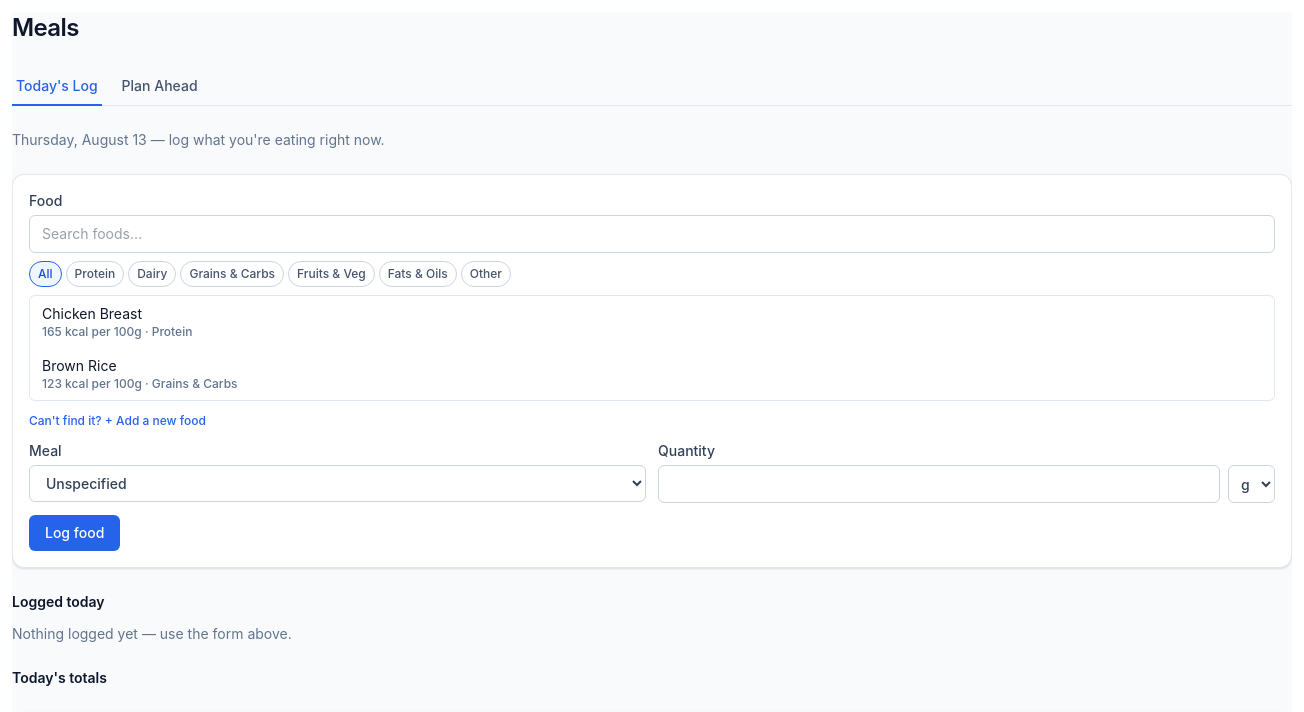
Test: MealPlannerView › selects a plan and shows its entries and daily totals
Click the button "Plan Ahead" at (160, 87), box [118, 68, 202, 106]
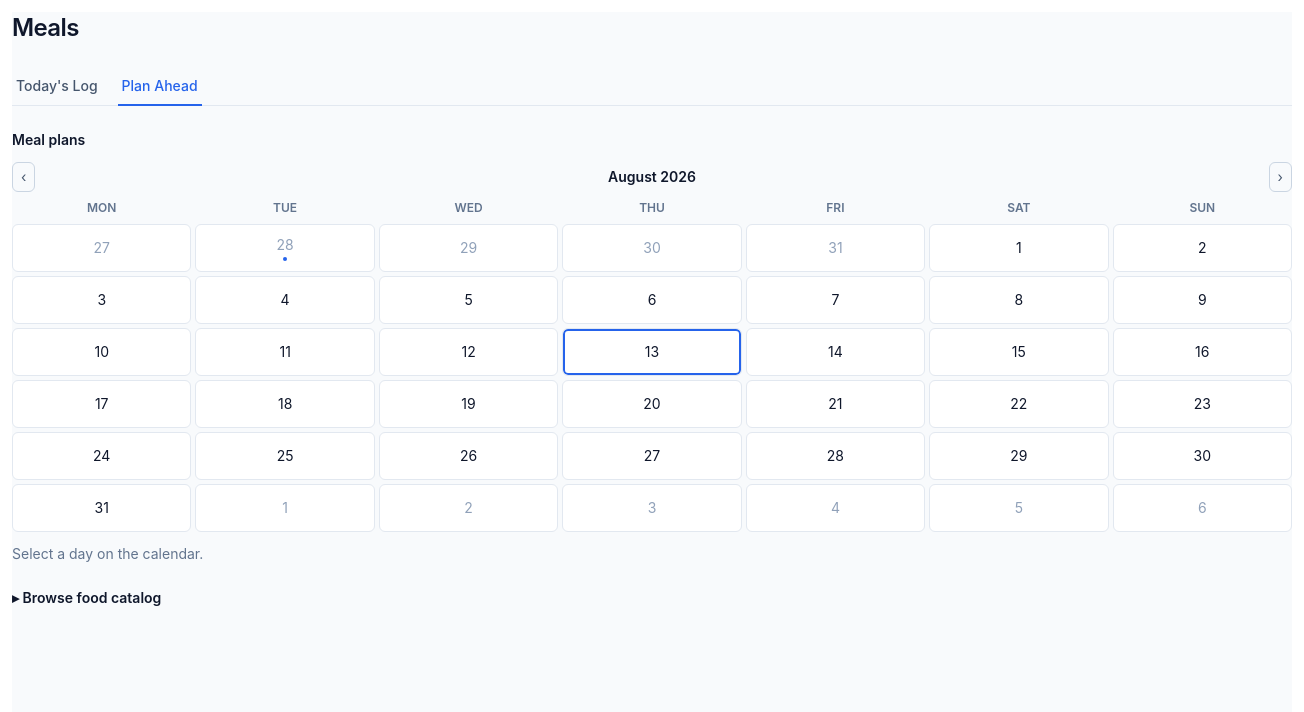
expect the text "200g" is not shown: met
Click the 1st button "28" at (285, 248), box [195, 224, 375, 272]
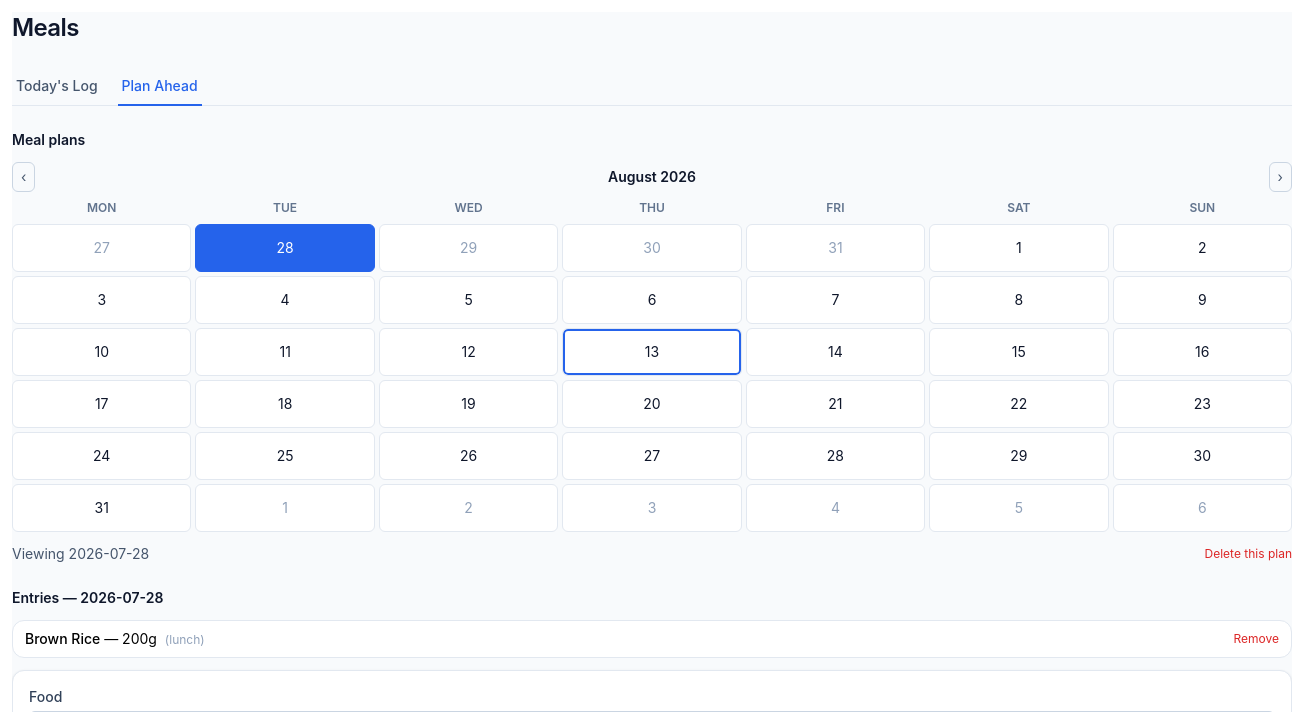
expect the text "Brown Rice" is shown: met, box [25, 630, 100, 647]
expect the text "200g" is shown: met, box [100, 630, 161, 647]
